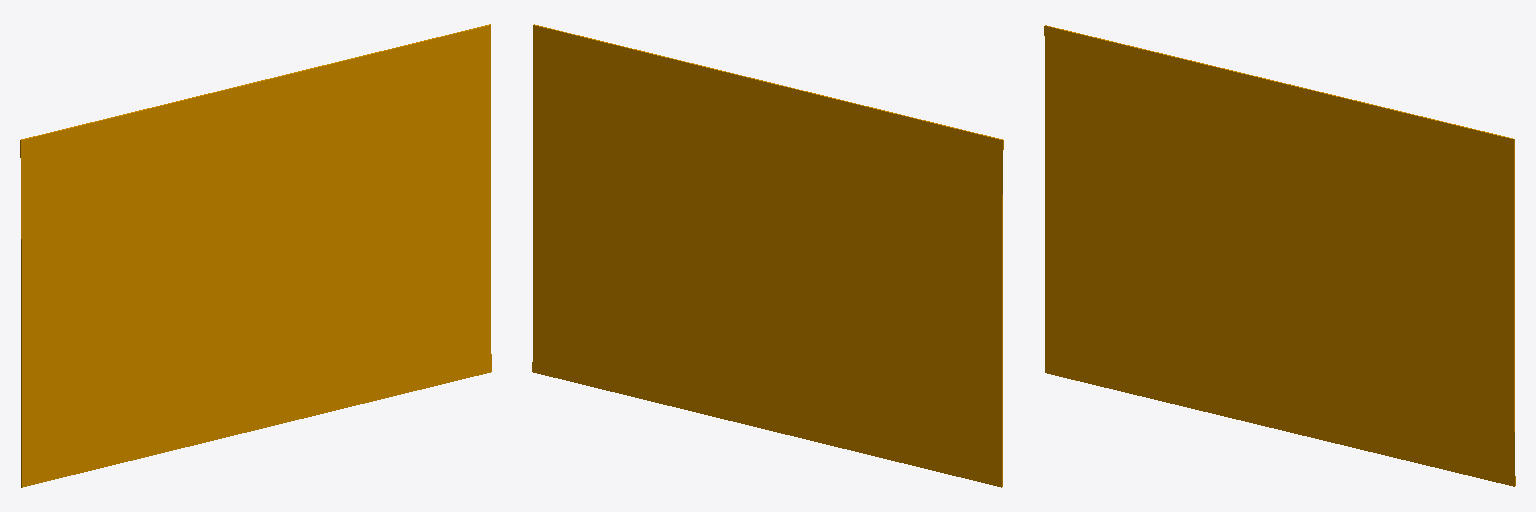
The robot description file, URDF, robot "my_robo":
<?xml version="1.0"?>
<robot name="my_robo" xmlns:xacro="http://ros.org/wiki/xacro">
 <link name="rviz">
   <inertial>
     <origin xyz="0 0 0.5" rpy="0 0 0"/>
     <mass value="1"/>
     <inertia ixx="0.1"  ixy="0"  ixz="0" iyy="0.1" iyz="0" izz="0.1" />
   </inertial>
   <visual>
     <origin xyz="11.143 6.1607 -4.8654" rpy="1.57 3.14 0" />
     <geometry>
       <mesh filename="package://astrobee_iss/meshes/lostitem_target.dae"/>
     </geometry>
   </visual>
 </link>
 <gazebo reference="body_link">
   <material>Gazebo/Red</material>
 </gazebo>
</robot>

--- Facts derived from the render (not from the file) ---
The picture shows the robot from 3 angles, left to right: view 1: azimuth 30°, elevation 25°; view 2: azimuth 150°, elevation 25°; view 3: azimuth 330°, elevation 25°; orthographic projection.
Robot: my_robo — 1 links, 0 joints (none); root link rviz; default pose: every joint at zero.
Visible links, largest first — view 1: rviz; view 2: rviz; view 3: rviz.
Link boxes in pixels (<box>): rviz: <box>20,24,491,487</box>; rviz: <box>532,24,1003,487</box>; rviz: <box>1044,25,1515,486</box>.
Bounding box of the posed robot: 0.2973 × 0.0012 × 0.2105 m (x, y, z).
1 mesh visuals loaded from 1 distinct referenced files (1 Collada DAE).